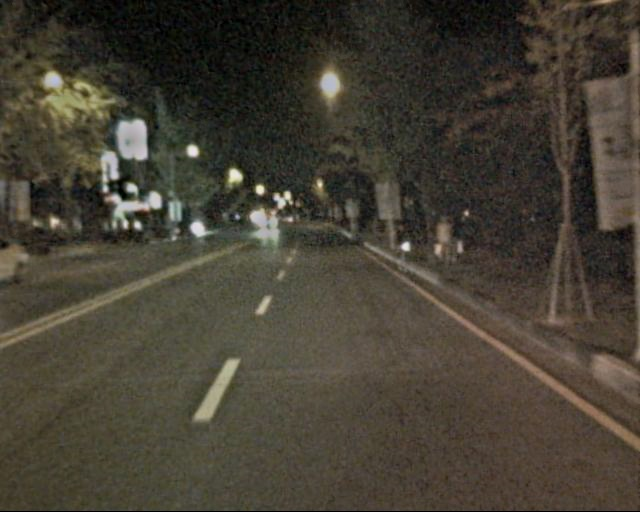person: (434, 214, 457, 265), (391, 221, 413, 272), (441, 215, 463, 263)
